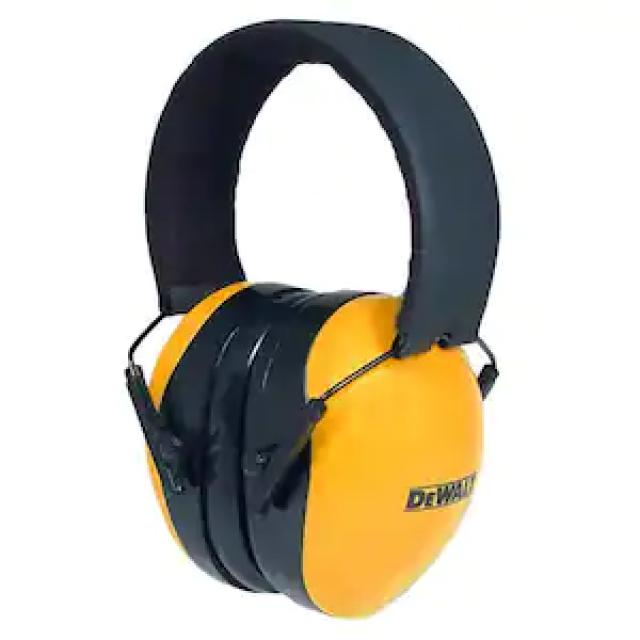Ear Muffs: (111, 18, 515, 630)
